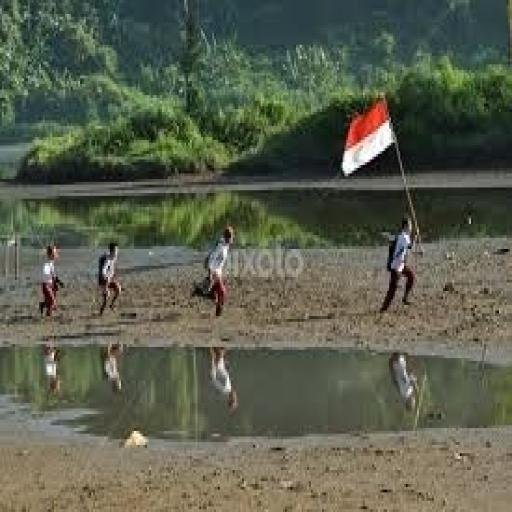running: (188, 221, 238, 322), (376, 210, 421, 316), (205, 341, 240, 417), (93, 238, 125, 319), (36, 238, 66, 322), (98, 336, 126, 397)
